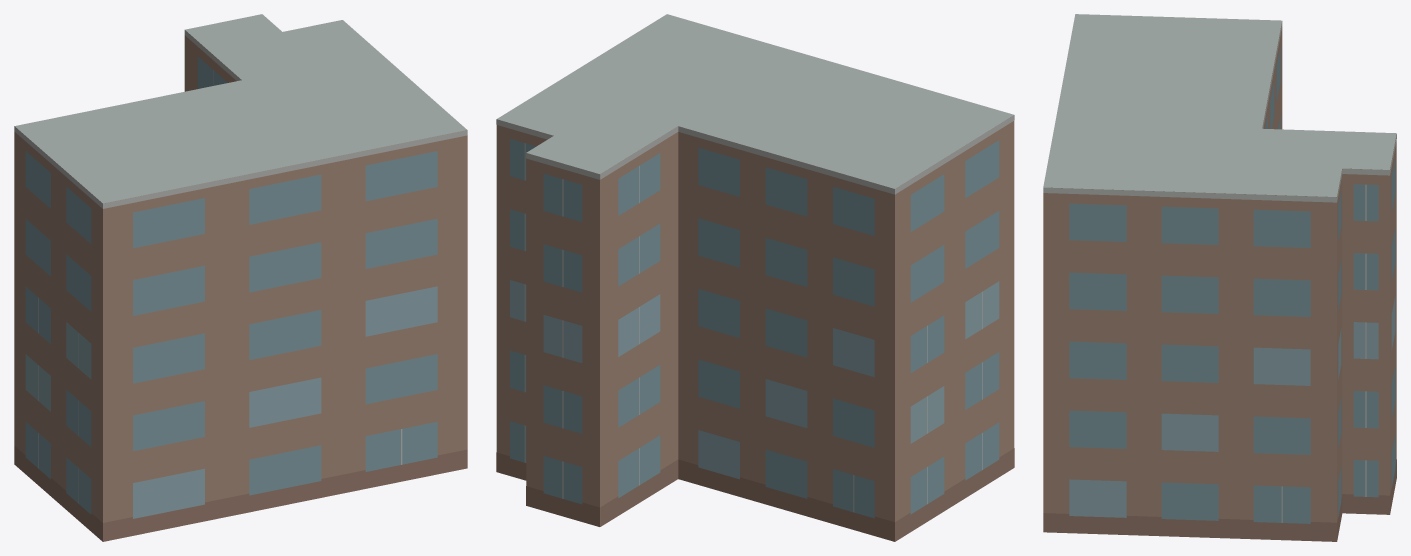
Rendered from survey-upis-32766890.glb.
The picture shows the model from 3 angles, left to right: view 1: azimuth 30°, elevation 25°; view 2: azimuth 150°, elevation 25°; view 3: azimuth 270°, elevation 25°; orthographic projection. The views are drawn at different scales.
Parts seen in each view (by area): view 1: survey-upis-32766890.tmp; view 2: survey-upis-32766890.tmp; view 3: survey-upis-32766890.tmp.
Boxes of the visible parts, <box> form: survey-upis-32766890.tmp: <box>14,14,467,541</box>; survey-upis-32766890.tmp: <box>496,14,1014,541</box>; survey-upis-32766890.tmp: <box>1043,14,1396,541</box>.
Size of the model in its own units: 17.38 by 15.25 by 14.18.
